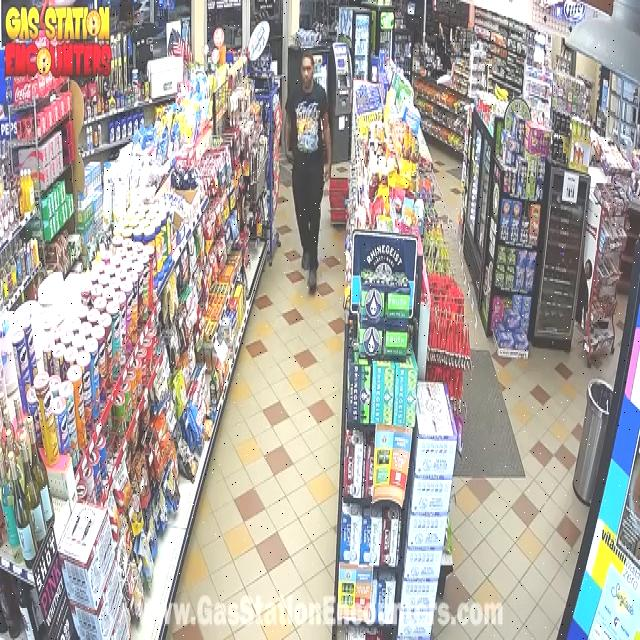hands: (324, 114, 331, 181)
person: (285, 53, 330, 292)
